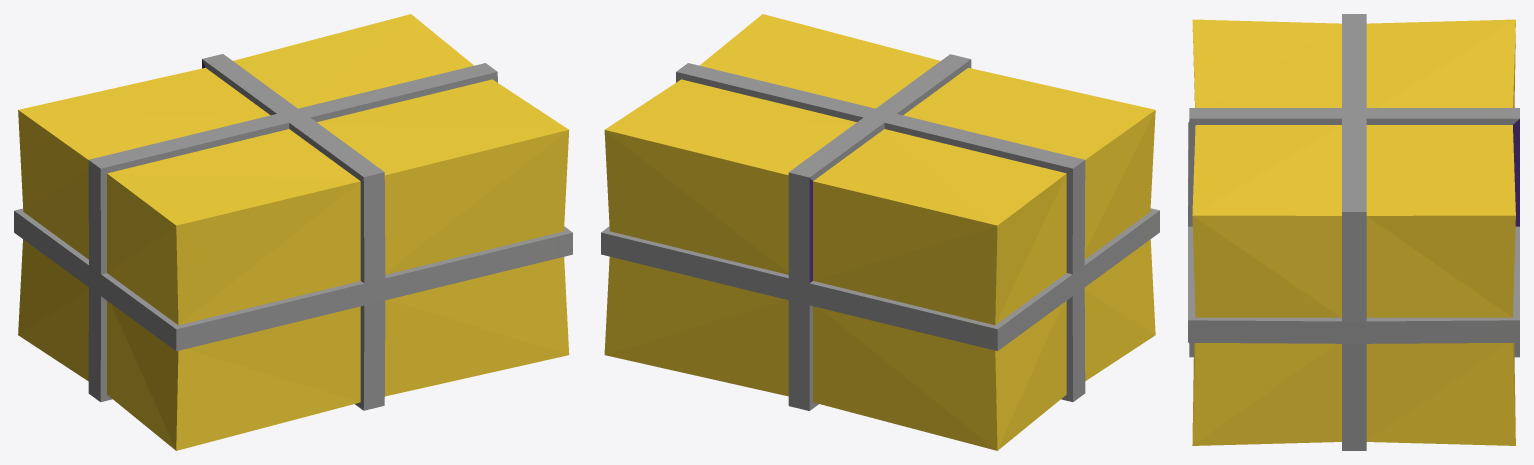
File: square_wheat_barn_small.glb
3 renders of one model, left to right at view 1: azimuth 30°, elevation 25°; view 2: azimuth 150°, elevation 25°; view 3: azimuth 270°, elevation 25°, orthographic. The views are drawn at different scales.
Parts seen in each view (by area): view 1: rock02_Mesh_007_Base_0.2180; view 2: rock02_Mesh_007_Base_0.2180; view 3: rock02_Mesh_007_Base_0.2180.
Part boxes in pixels (bbox=[...]): rock02_Mesh_007_Base_0.2180: bbox=[14, 14, 572, 450]; rock02_Mesh_007_Base_0.2180: bbox=[601, 14, 1159, 450]; rock02_Mesh_007_Base_0.2180: bbox=[1188, 14, 1519, 450].
Bounding box in the file's own units: 1.3 × 0.7245 × 0.9125.
1 material, 1 textured.
